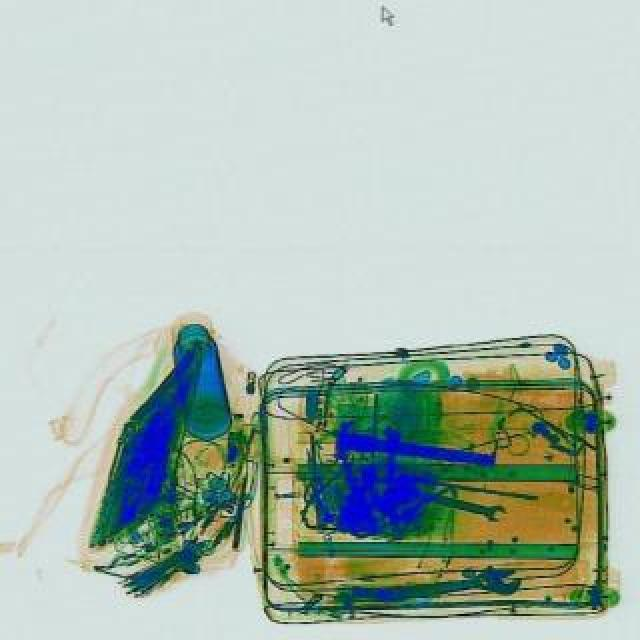scissors: (368, 558, 520, 614), (418, 484, 506, 524)
